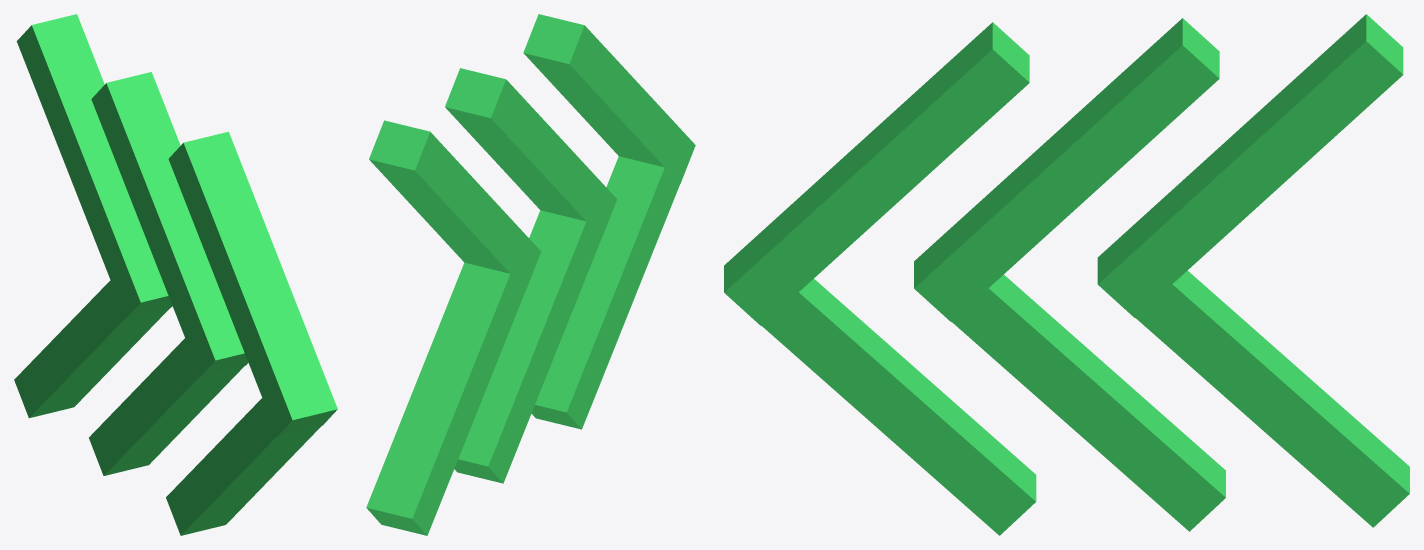
Rendered from Arrow.fbx.
The picture shows the model from 3 angles, left to right: view 1: azimuth 30°, elevation 25°; view 2: azimuth 150°, elevation 25°; view 3: azimuth 270°, elevation 25°; orthographic projection. The views are drawn at different scales.
Parts seen in each view (by area): view 1: Arrow; view 2: Arrow; view 3: Arrow.
Boxes of the visible parts, box(x1,y1,x2,y2) form: Arrow: box(14, 14, 337, 535); Arrow: box(366, 14, 695, 535); Arrow: box(724, 14, 1409, 535).
Size of the model in its own units: 44.42 by 376 by 473.
